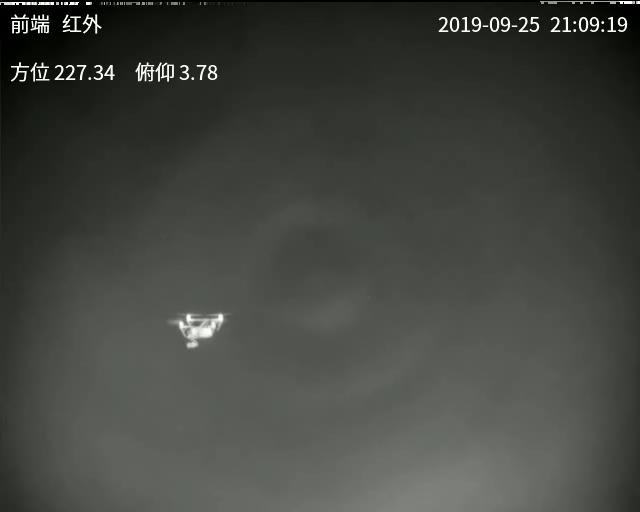uav: (174, 311, 224, 351)
